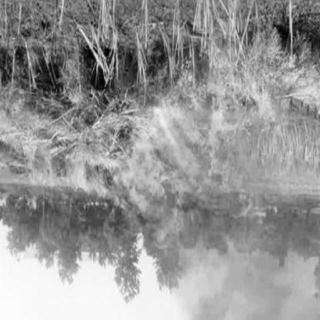Fire: (107, 78, 265, 258)
